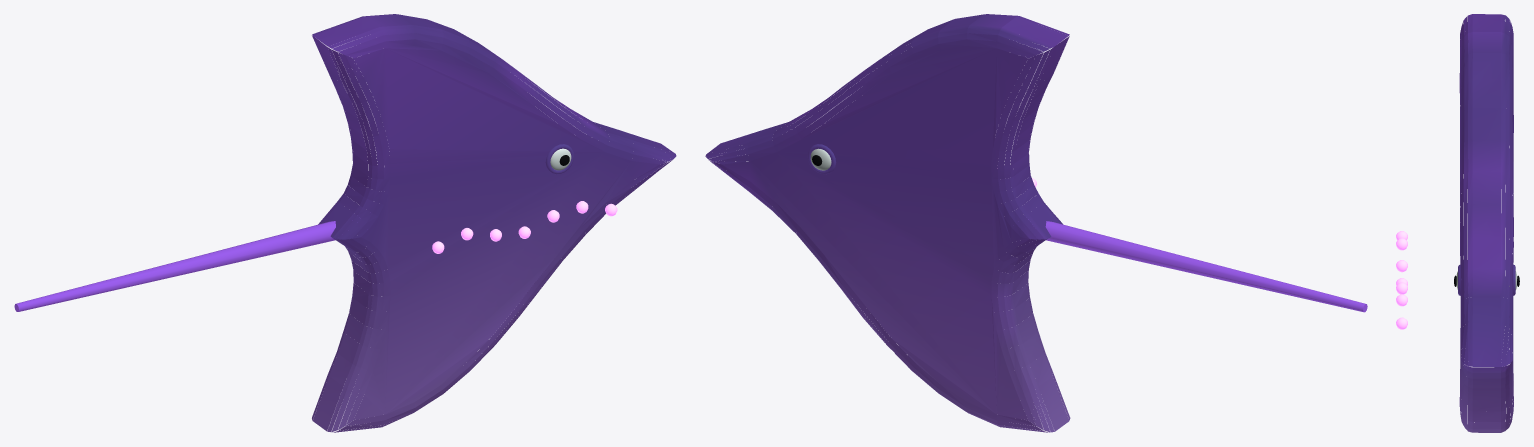
The model's file is void-manta.glb.
3 renders of one model, left to right at view 1: azimuth 30°, elevation 25°; view 2: azimuth 150°, elevation 25°; view 3: azimuth 270°, elevation 25°, orthographic. The views are drawn at different scales.
Visible parts, largest first — view 1: body, tail_fin; view 2: body, tail_fin; view 3: body.
Part boxes in pixels (x1,y1,x2,y2): body: [312, 14, 676, 432]; tail_fin: [14, 221, 335, 311]; body: [705, 14, 1070, 432]; tail_fin: [1028, 219, 1367, 312]; body: [1459, 14, 1513, 432].
Bounding box in the file's own units: 4.15 × 2.43 × 0.7002.
